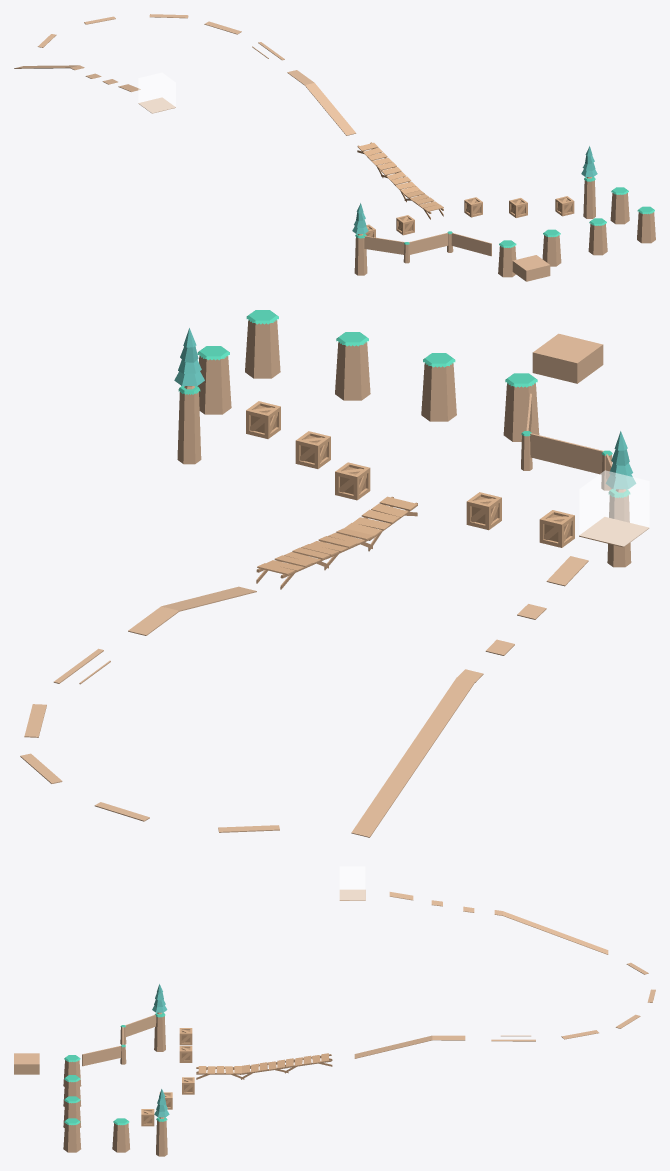
The model's file is map3.glb.
3 renders of one model, top to bottom at view 1: azimuth 30°, elevation 25°; view 2: azimuth 150°, elevation 25°; view 3: azimuth 270°, elevation 25°, orthographic. The views are drawn at different scales.
Parts seen in each view (by area): view 1: Mesh blockHexagonLow_1 (×7), blockDirtHalf(Clone) (×3), Mesh bridge_0 (×3), end, spawn, blockDirt(Clone); view 2: Mesh blockHexagonLow_1 (×7), blockDirt(Clone) (×3), Mesh crate_0 (×5), end, Mesh bridge_0 (×3), spawn, Mesh treePine_1 (×2), blockDirtHalf(Clone); view 3: blockDirt(Clone) (×2), Mesh blockHexagonLow_1 (×2), end, spawn, blockDirtHalf(Clone).
Part boxes in pixels (<box>): Mesh blockHexagonLow_1 (×7): <box>354,180,655,277</box>; blockDirtHalf(Clone) (×3): <box>364,232,491,256</box>; Mesh bridge_0 (×3): <box>358,142,443,211</box>; end: <box>138,72,175,113</box>; spawn: <box>512,255,550,281</box>; blockDirt(Clone): <box>305,83,356,135</box>; Mesh blockHexagonLow_1 (×7): <box>177,320,631,567</box>; blockDirt(Clone) (×3): <box>162,517,649,837</box>; Mesh crate_0 (×5): <box>246,401,574,547</box>; end: <box>579,470,649,546</box>; Mesh bridge_0 (×3): <box>257,496,417,575</box>; spawn: <box>532,333,603,383</box>; Mesh treePine_1 (×2): <box>174,328,635,489</box>; blockDirtHalf(Clone): <box>530,433,603,474</box>; blockDirt(Clone) (×2): <box>354,911,608,1058</box>; Mesh blockHexagonLow_1 (×2): <box>63,1123,129,1152</box>; end: <box>339,866,365,900</box>; spawn: <box>14,1053,39,1074</box>; blockDirtHalf(Clone): <box>82,1046,121,1066</box>.
Bounding box in the file's own units: 749 × 283 × 1246.
